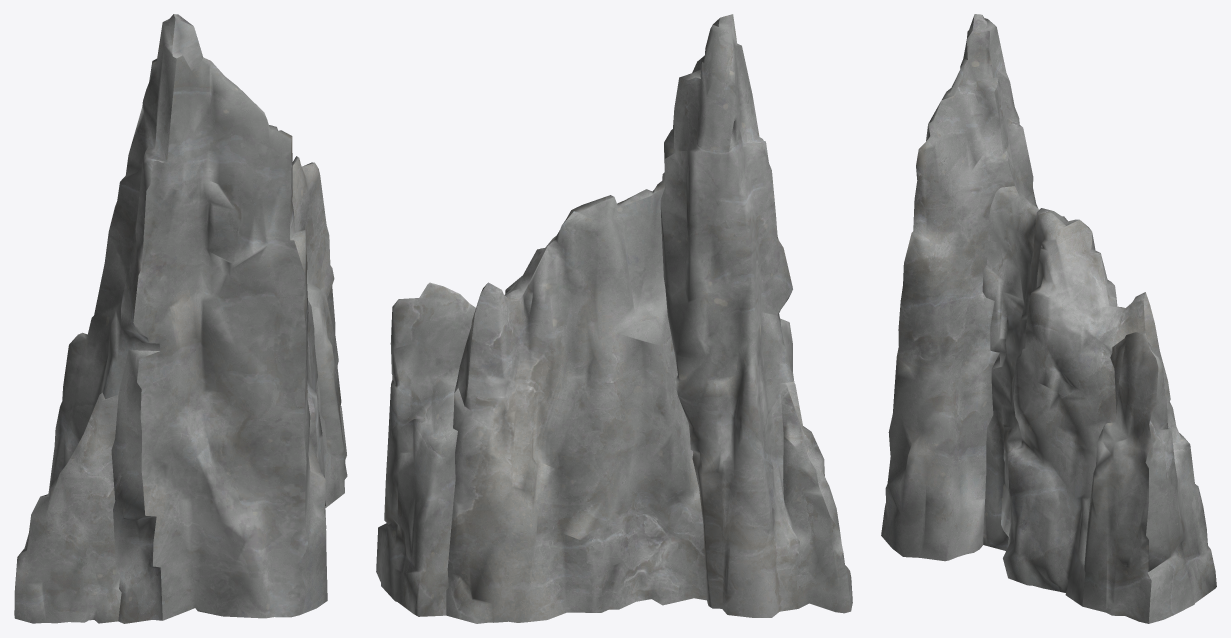
The model's file is SM_Com_Roc_78AL.fbx.
3 renders of one model, left to right at view 1: azimuth 30°, elevation 25°; view 2: azimuth 150°, elevation 25°; view 3: azimuth 270°, elevation 25°, orthographic. The views are drawn at different scales.
Visible parts, largest first — view 1: SM_Com_Roc_78AL.mo; view 2: SM_Com_Roc_78AL.mo; view 3: SM_Com_Roc_78AL.mo.
Part boxes in pixels (bbox=[...]): SM_Com_Roc_78AL.mo: bbox=[14, 14, 347, 623]; SM_Com_Roc_78AL.mo: bbox=[376, 14, 852, 623]; SM_Com_Roc_78AL.mo: bbox=[881, 14, 1216, 623].
Size of the model in its own units: 127 by 170 by 104.
